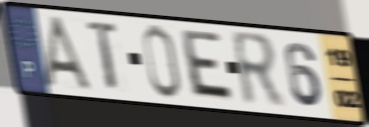0: (141, 23, 184, 102)
6: (283, 40, 324, 109)
A: (41, 15, 98, 95)
E: (180, 27, 237, 105)
R: (229, 29, 288, 111)
T: (85, 18, 120, 94)
